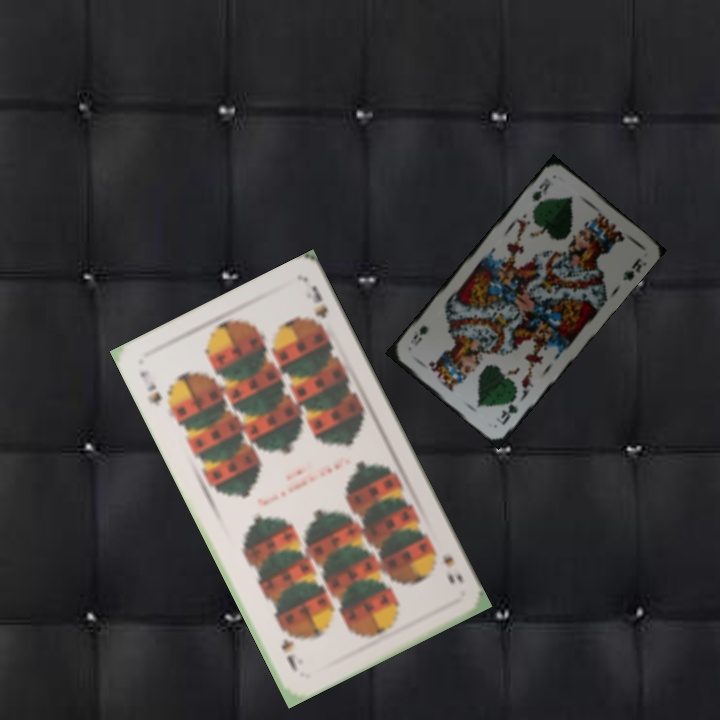GK: (528, 174, 553, 211), (497, 392, 520, 428)
S9: (135, 366, 164, 409), (438, 551, 467, 588)
